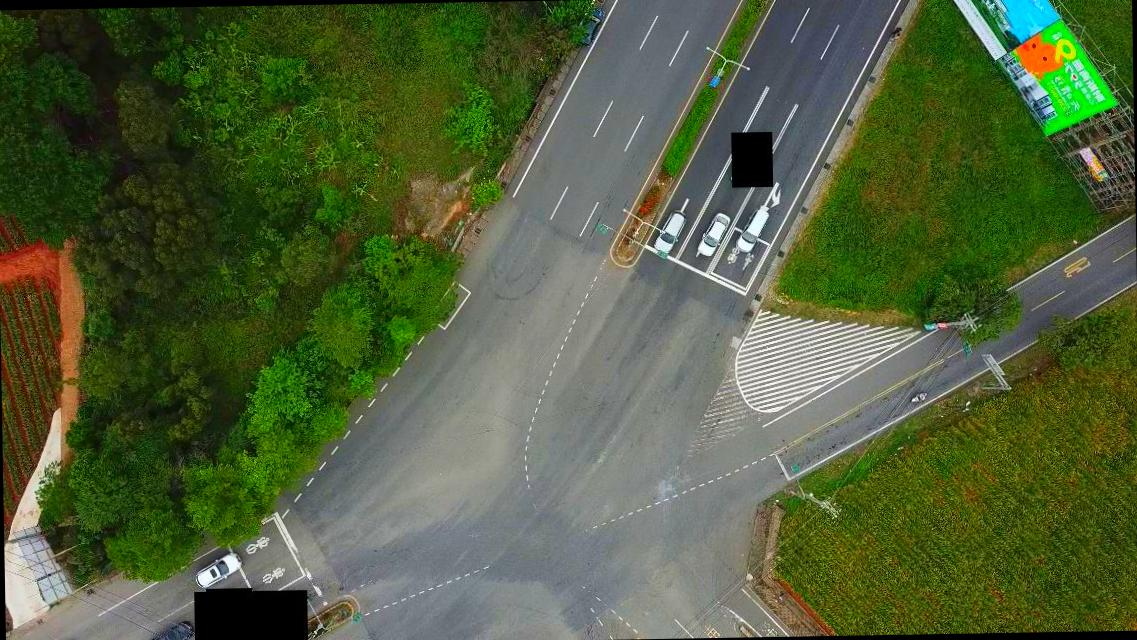vehicle: (193, 548, 244, 588), (735, 208, 770, 252), (698, 211, 731, 257), (655, 208, 688, 254), (574, 5, 606, 49), (147, 617, 196, 639)
